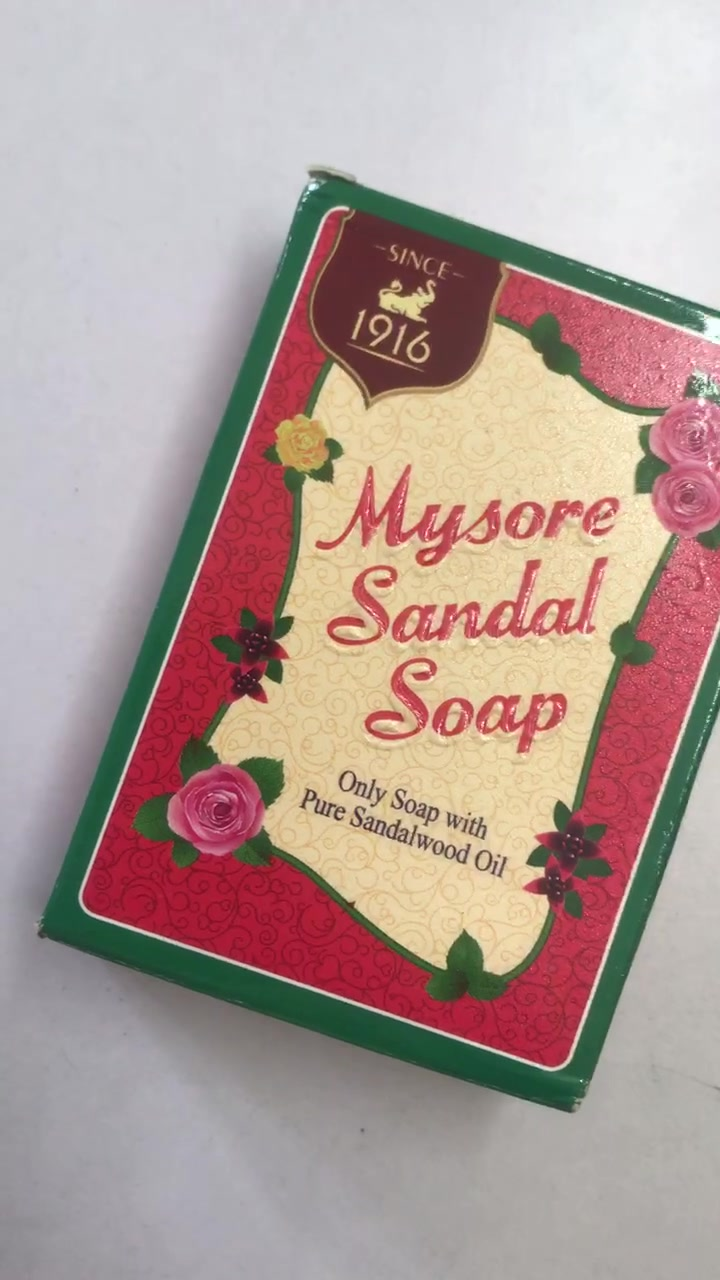mysore sandal soap: (44, 178, 717, 1117)
